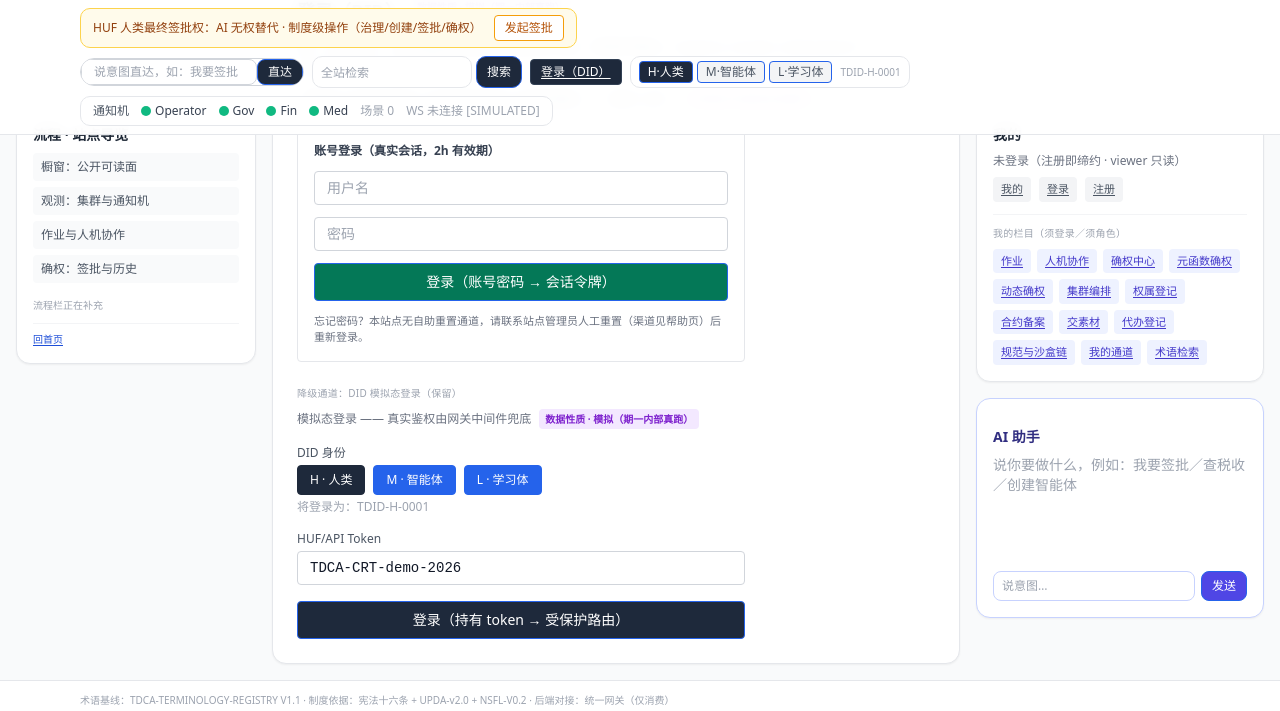
Test case: F-2 /auth 鉴权 › 登录流程：选择身份 + token → 登录 → 回跳来源路由
The width and height of the screenshot is (1280, 711).
(page scrolled)
Expected: the element with test id "auth-form" is shown, [297,408,745,638]
Click the button with test id "auth-role-M" at (415, 480), box [373,464,456,494]
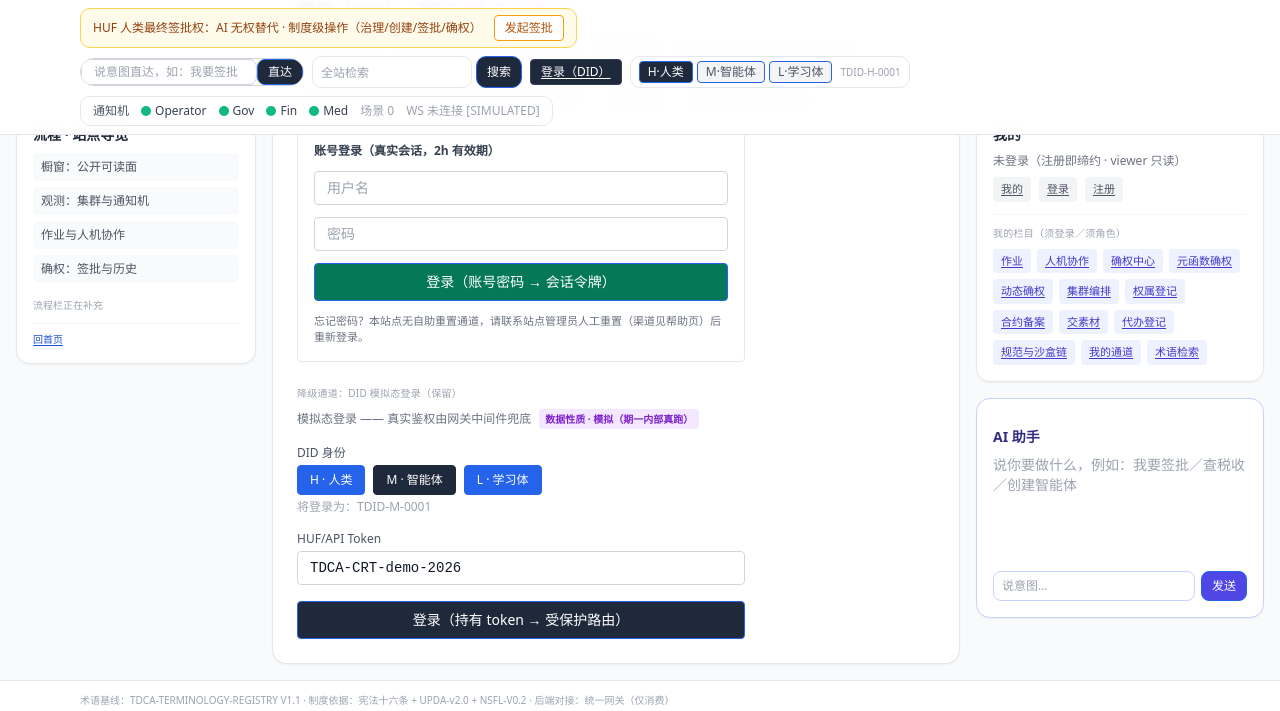
Expected: the text with test id "auth-did-preview" shows "TDID-M-0001", [357,498,431,514]
Replace the text in the field with test id "auth-token" with "TDCA-CRT-USER-1" at (521, 568), box [297,550,745,584]
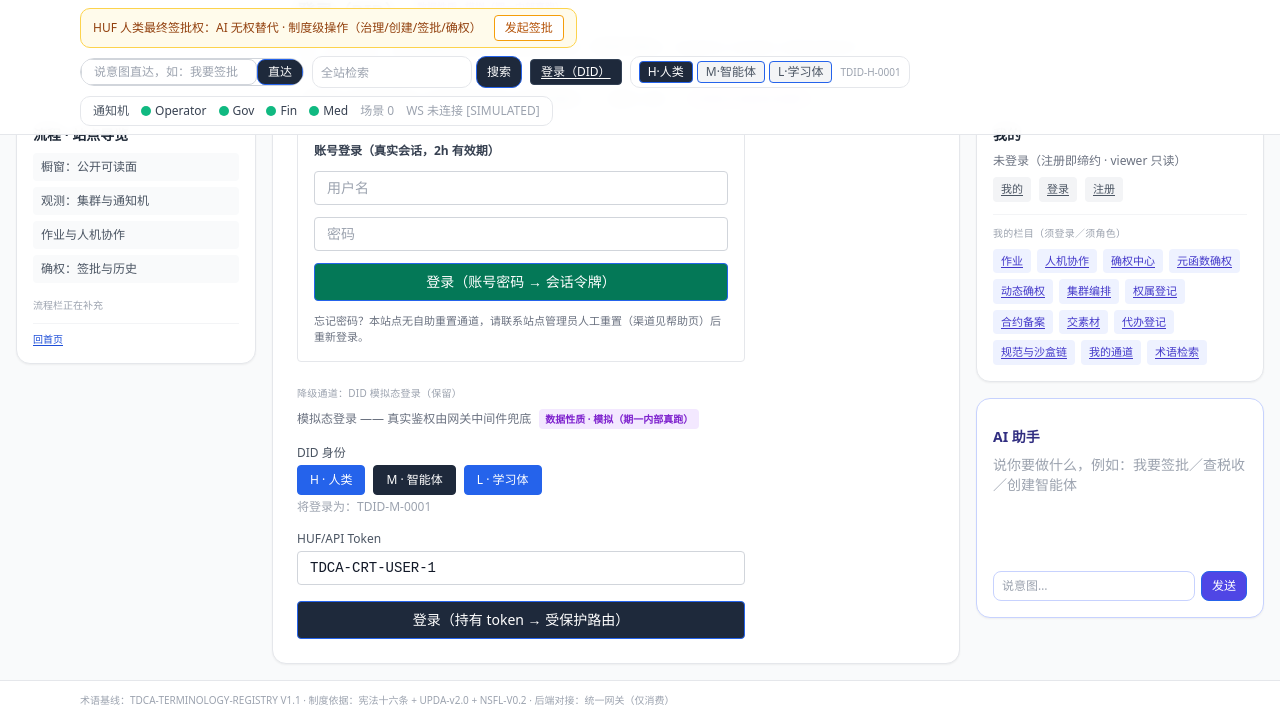
Click the button with test id "auth-submit" at (521, 620), box [297,600,745,638]
(page scrolled)
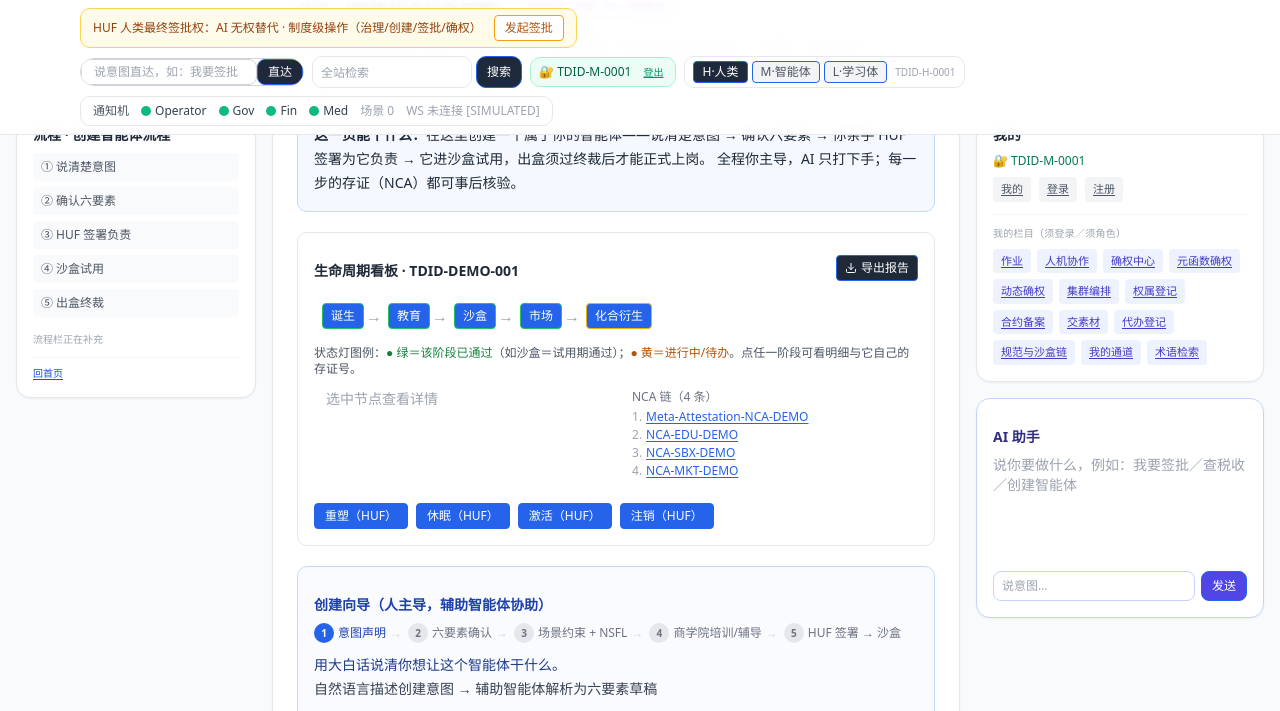
Expected: the element with test id "studio-lifecycle" is shown, [297,232,935,546]
Expected: the element with test id "auth-status" shows "TDID-M-0001", [557,63,631,80]
